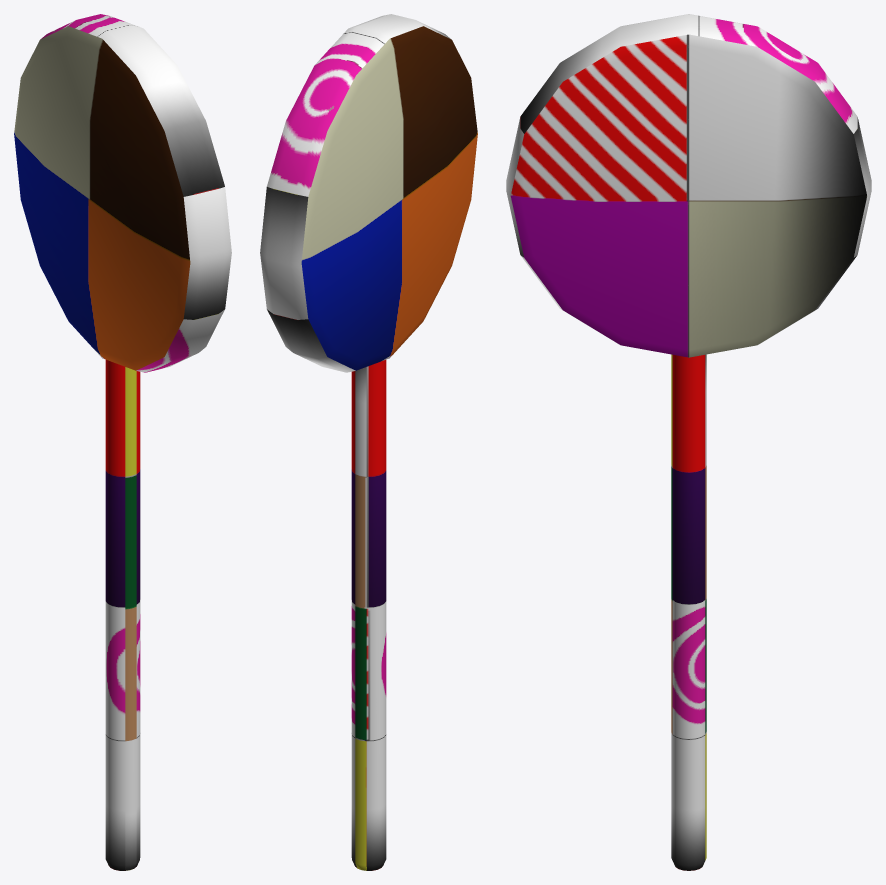
File: lecca hp.fbx
3 views of the same model, side by side, from view 1: azimuth 30°, elevation 25°; view 2: azimuth 150°, elevation 25°; view 3: azimuth 270°, elevation 25° (orthographic).
Parts seen in each view (by area): view 1: lecca_lecca_testa_hp, lecca_lecca_steak_hp; view 2: lecca_lecca_testa_hp, lecca_lecca_steak_hp; view 3: lecca_lecca_testa_hp, lecca_lecca_steak_hp.
Boxes of the visible parts, <box> form: lecca_lecca_testa_hp: <box>14,14,231,372</box>; lecca_lecca_steak_hp: <box>105,360,140,870</box>; lecca_lecca_testa_hp: <box>260,14,477,372</box>; lecca_lecca_steak_hp: <box>351,360,386,870</box>; lecca_lecca_testa_hp: <box>506,14,871,357</box>; lecca_lecca_steak_hp: <box>671,354,706,870</box>.
Bounding box in the file's own units: 0.2607 × 3.09 × 1.21.
